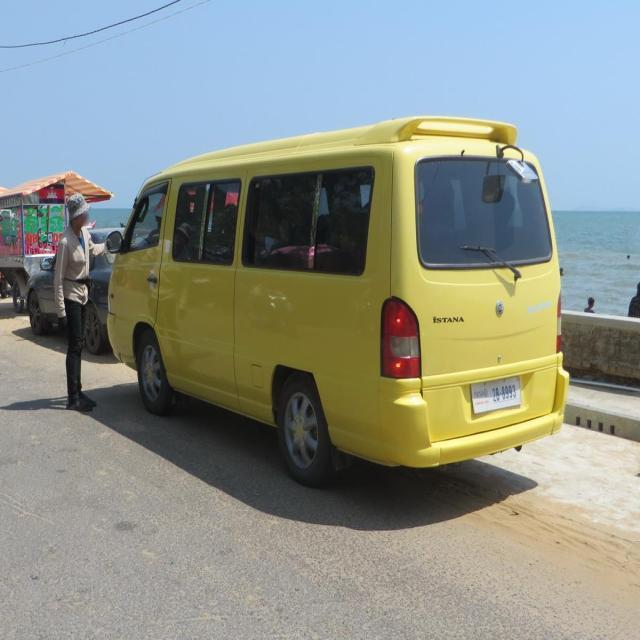Kampong_Speu: (474, 388, 489, 400)
